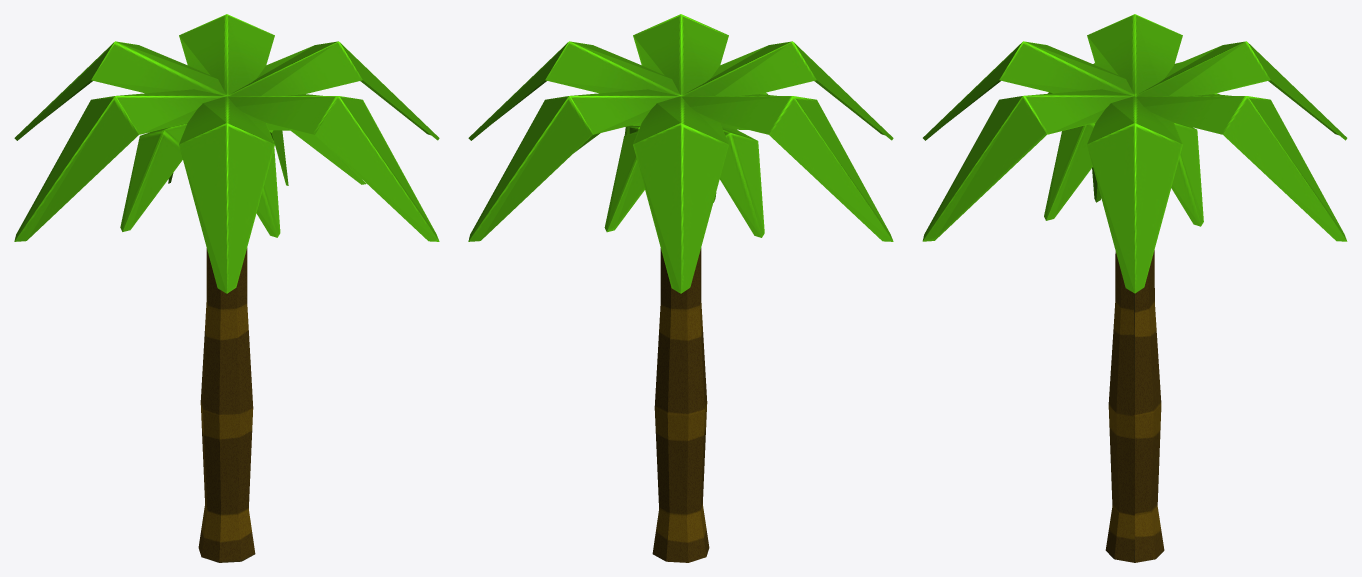
Rendered from palmera2_v2_tex.fbx.
The picture shows the model from 3 angles, left to right: view 1: azimuth 30°, elevation 25°; view 2: azimuth 150°, elevation 25°; view 3: azimuth 270°, elevation 25°; orthographic projection.
Parts seen in each view (by area): view 1: palmera2; view 2: palmera2; view 3: palmera2.
Part boxes in pixels (<box>): palmera2: <box>14,14,439,562</box>; palmera2: <box>468,14,893,562</box>; palmera2: <box>922,14,1347,562</box>.
Size of the model in its own units: 940 by 1019 by 814.
2 materials, 2 textured.
